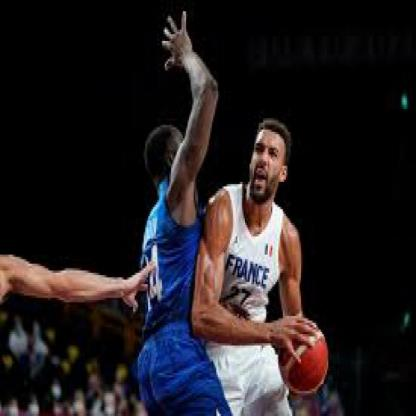basketball: (278, 318, 330, 396)
